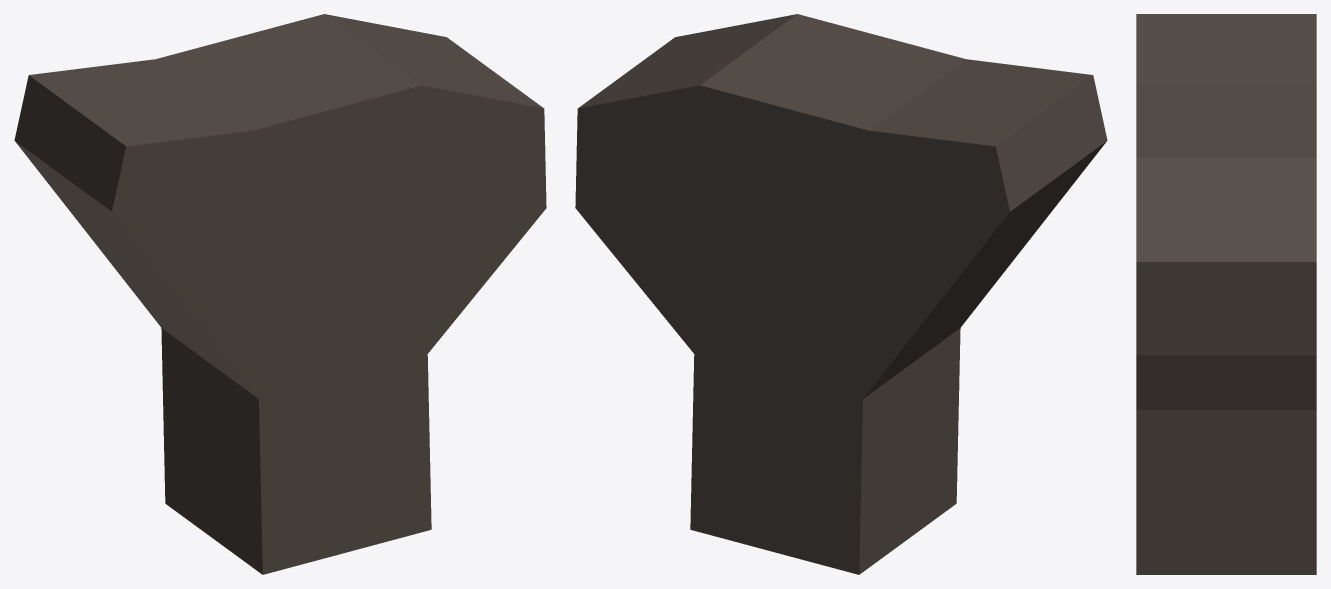
The model's file is Pistol3_06_5.fbx.
3 renders of one model, left to right at view 1: azimuth 30°, elevation 25°; view 2: azimuth 150°, elevation 25°; view 3: azimuth 270°, elevation 25°, orthographic. The views are drawn at different scales.
Parts seen in each view (by area): view 1: Pistol3_06_5; view 2: Pistol3_06_5; view 3: Pistol3_06_5.
Boxes of the visible parts, left/top/right/bottom form: Pistol3_06_5: left=14, top=14, right=546, bottom=574; Pistol3_06_5: left=575, top=14, right=1107, bottom=574; Pistol3_06_5: left=1136, top=14, right=1316, bottom=574.
Bounding box in the file's own units: 0.0333 × 0.0339 × 0.013.
